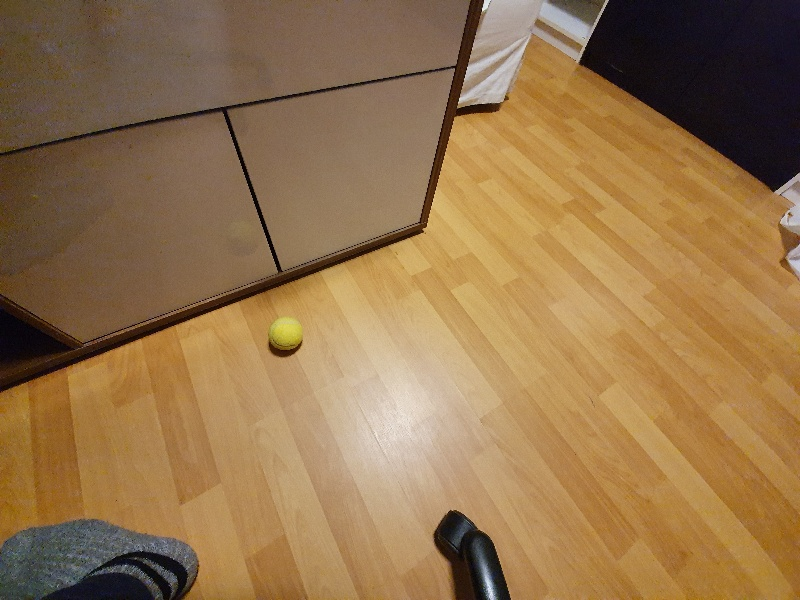Tennisball: (259, 313, 308, 362)
